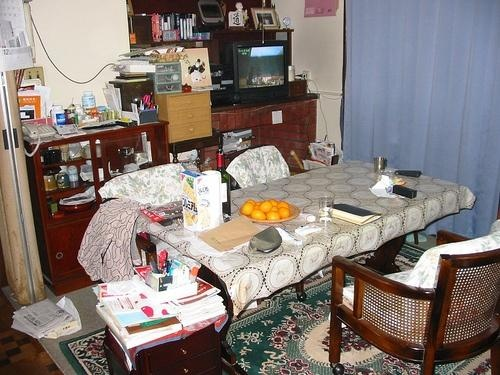chair: (330, 222, 500, 375), (97, 162, 212, 267), (225, 146, 292, 189)
diningtable: (132, 157, 481, 375)
tvmonitor: (224, 39, 291, 100)
